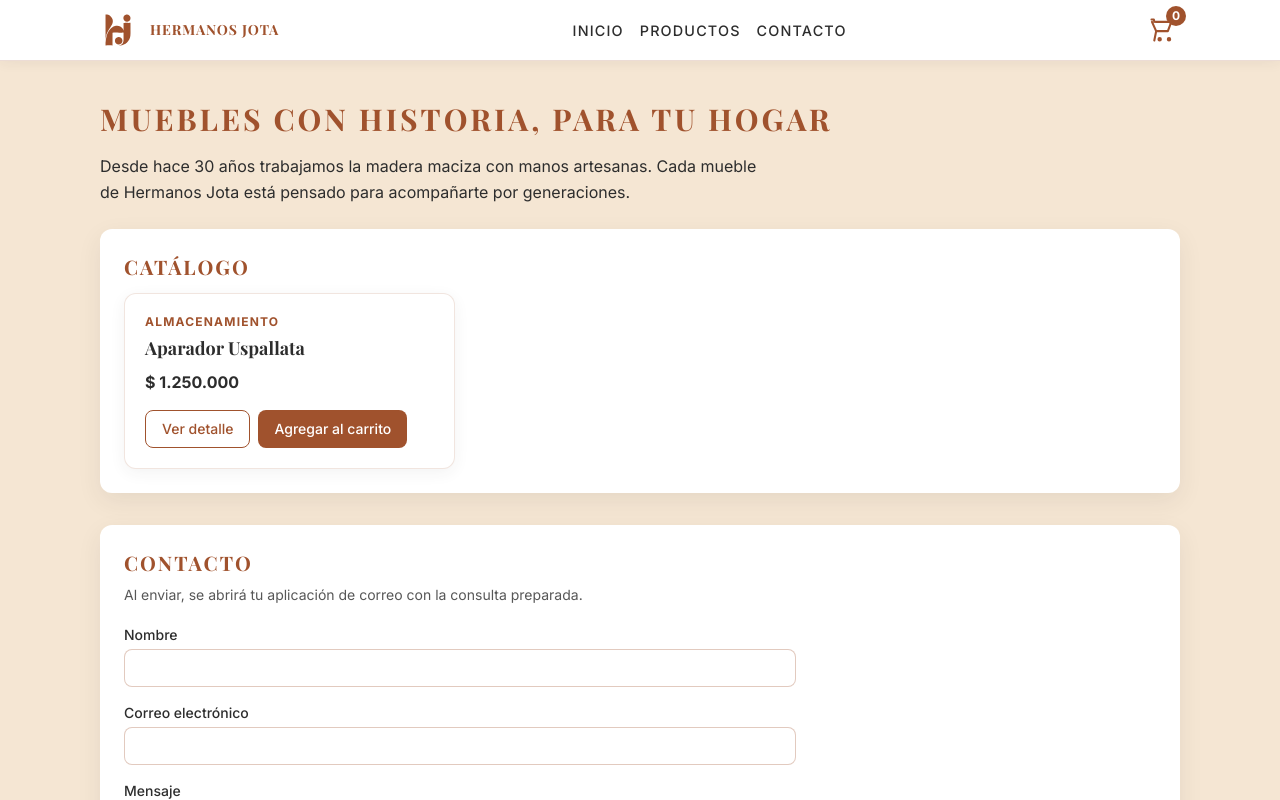
Test: renders products from the API and loads the selected product detail
Expected: the link "Hermanos Jota" is shown, left=96, top=8, right=279, bottom=52
Expected: the link named "carrito de compras" is shown, left=1140, top=8, right=1184, bottom=52
Click the button "Ver detalle". click: (198, 429)
box: left=145, top=410, right=250, bottom=448
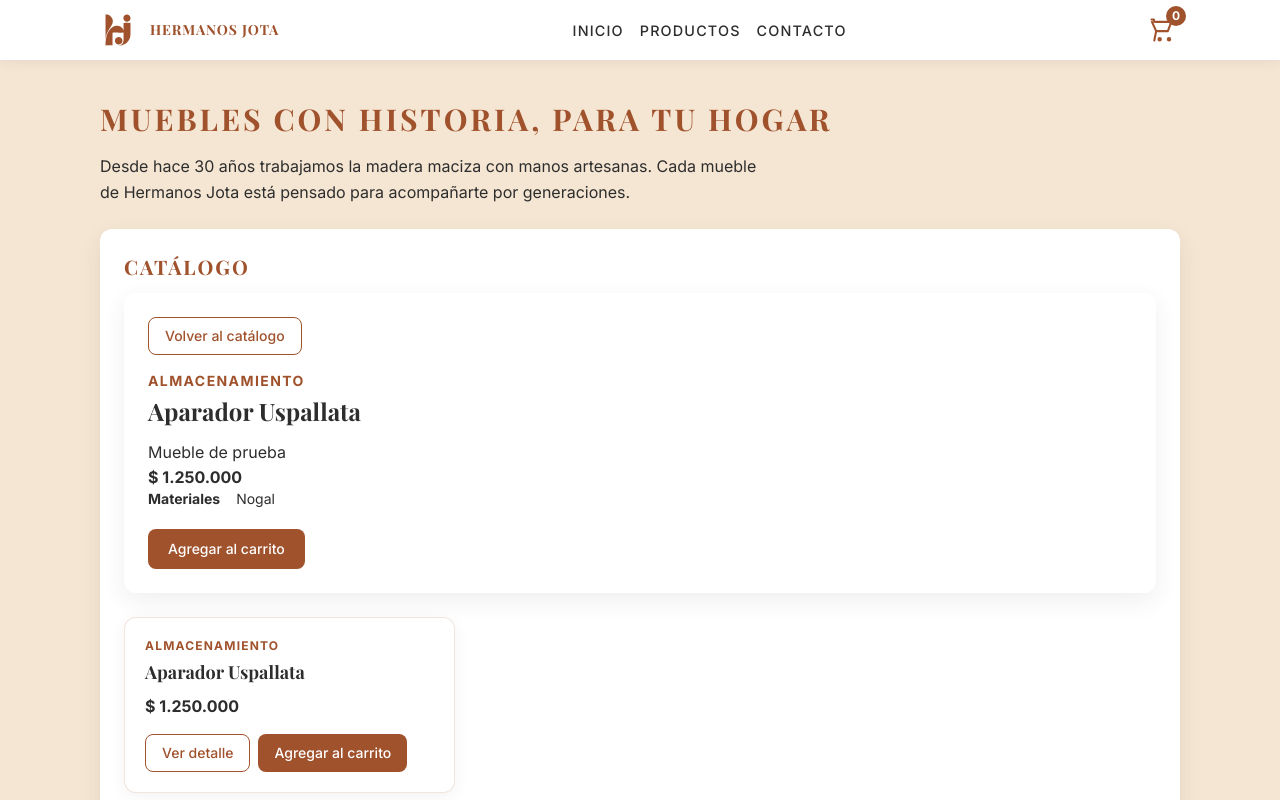
Now the text "Mueble de prueba" is shown, box left=148, top=442, right=286, bottom=462
